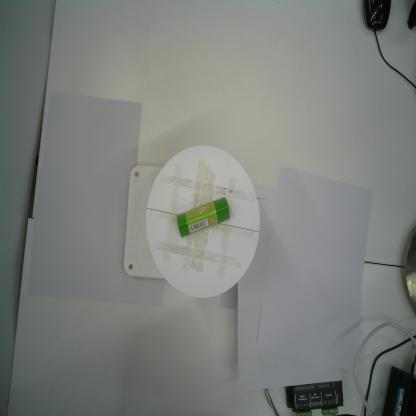Stationery: (177, 197, 230, 238)
